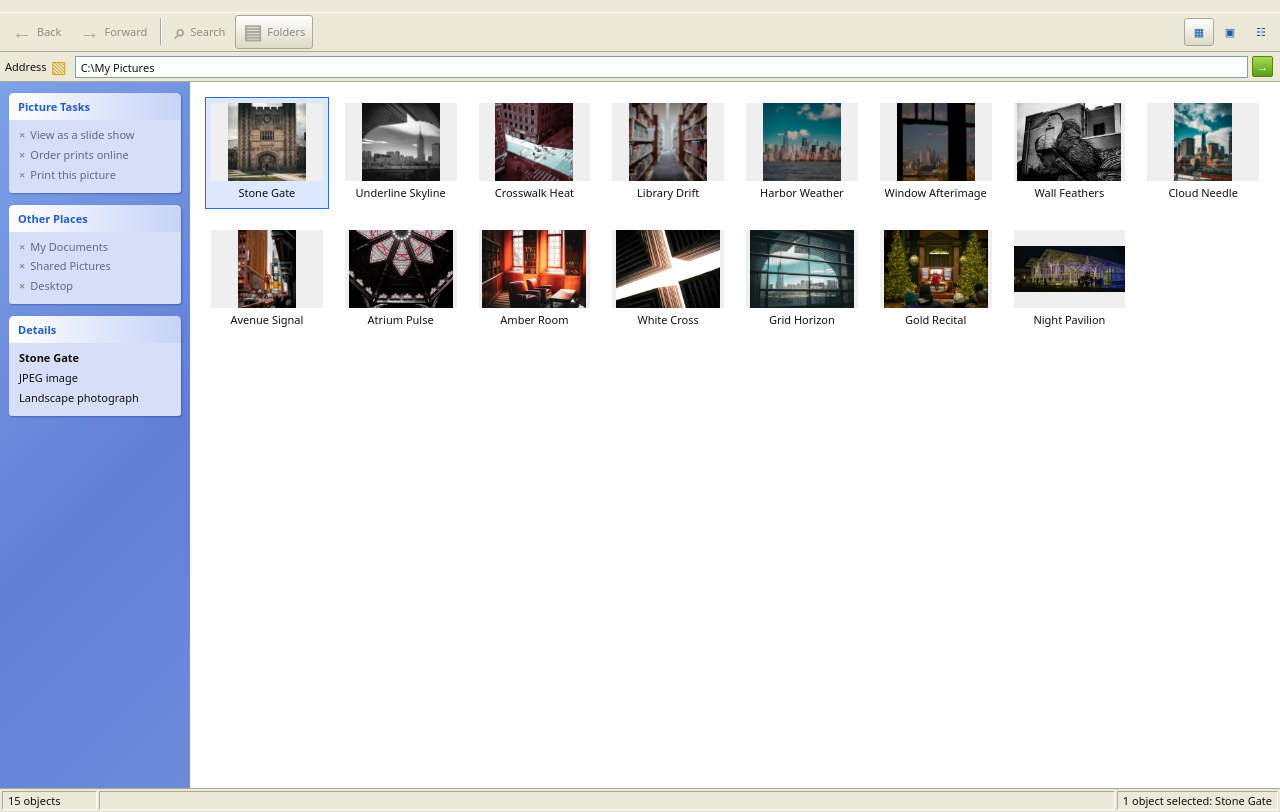
Test: PicturesBrowser › switches between list and thumbnail views without losing selection
This screenshot has width=1280, height=812.
Click the button with aria-label "Cloud Needle photo" at (1203, 153), box 1141,97 -> 1265,209
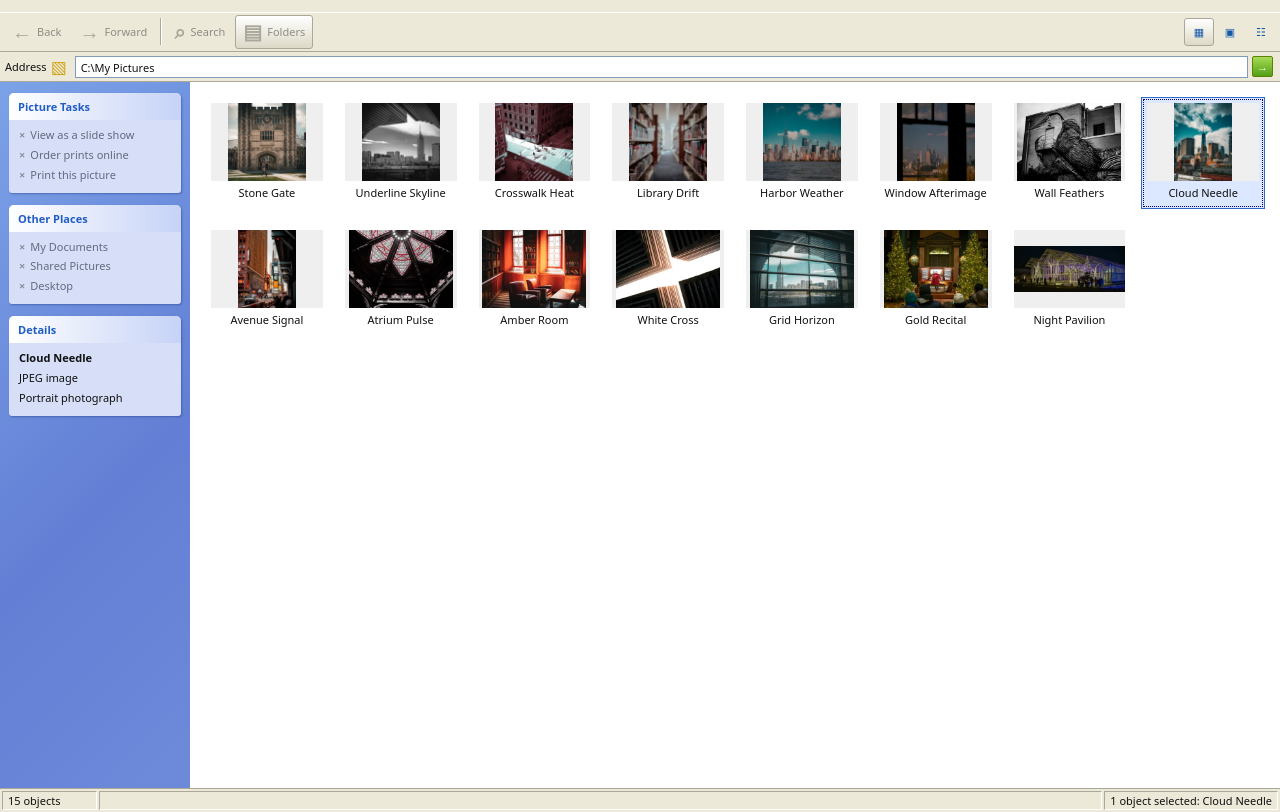
Click the button named "List view" at (1261, 32), box 1246,18 -> 1276,46
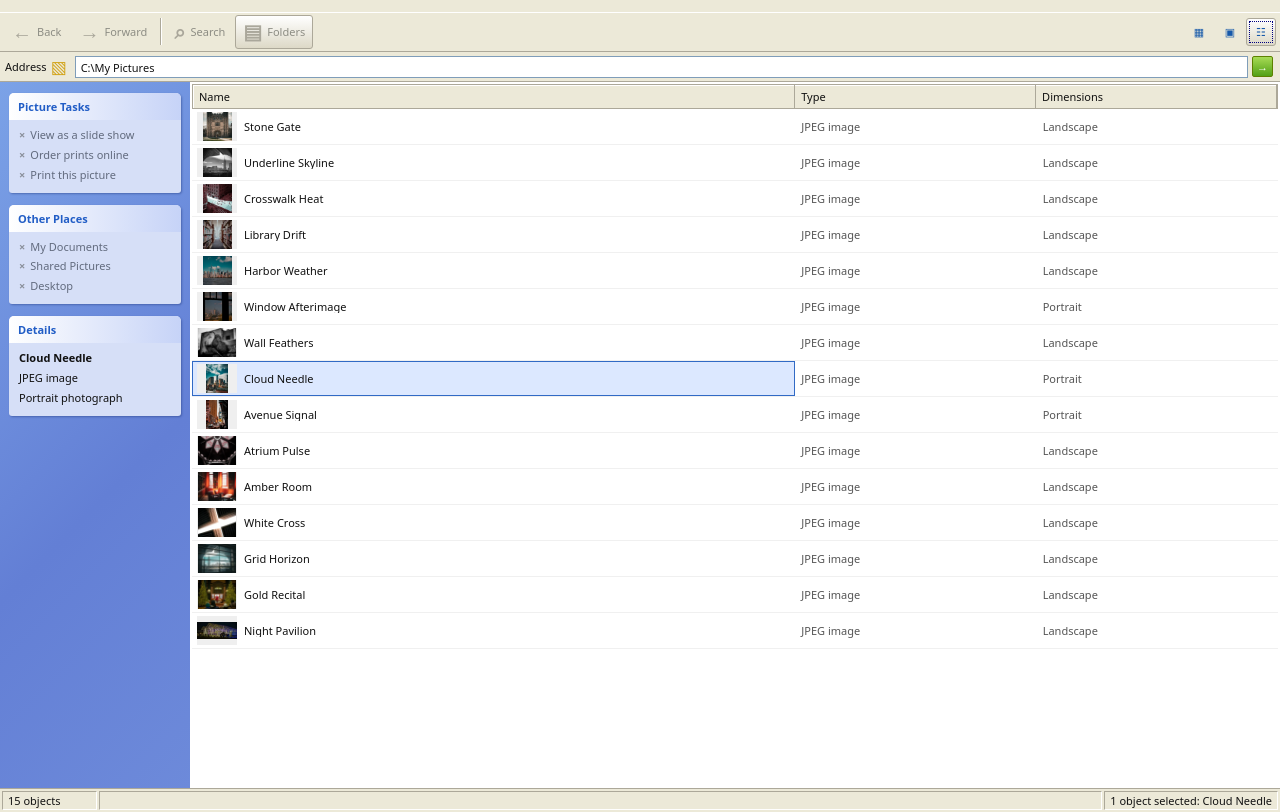
expect the column heading "Name" is shown: met, box 193,85 -> 795,108
Click the button named "Thumbnails view" at (1199, 32), box 1184,18 -> 1214,46
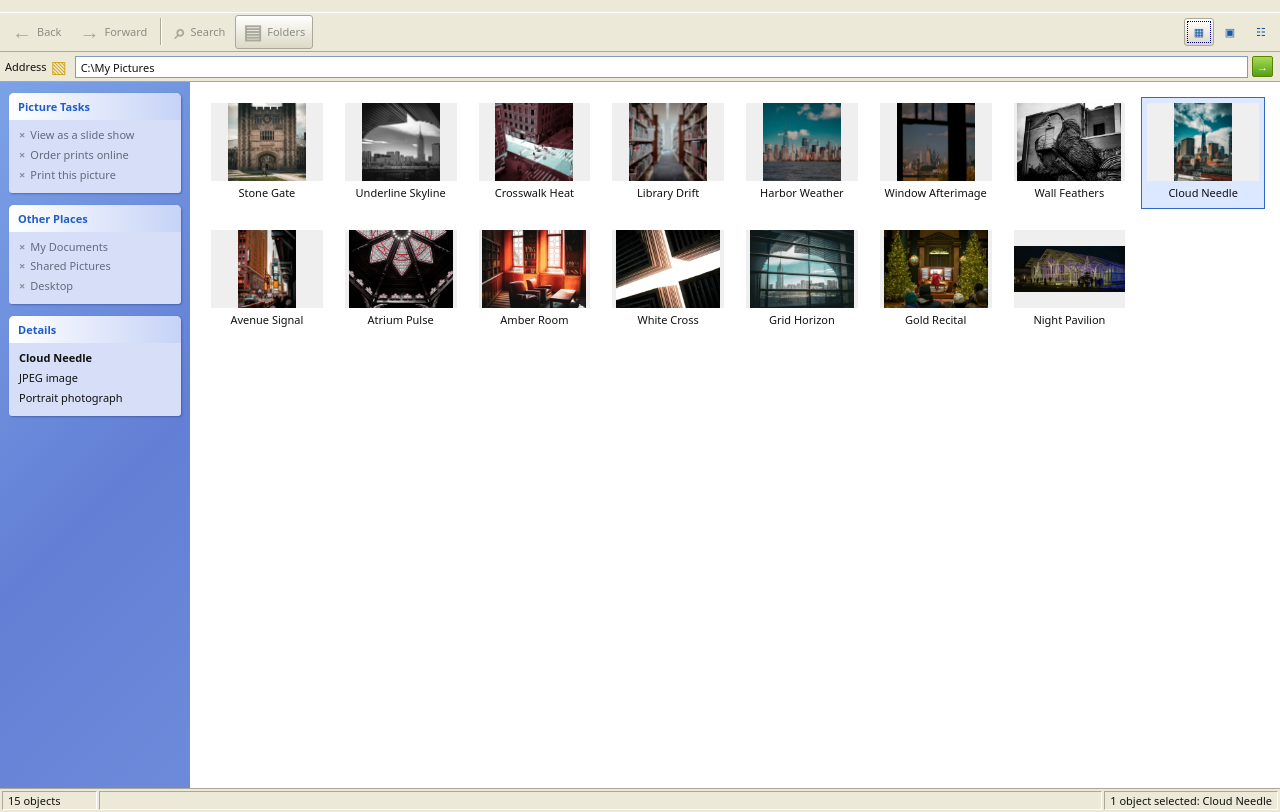
expect the column heading "Name" is gone: met
